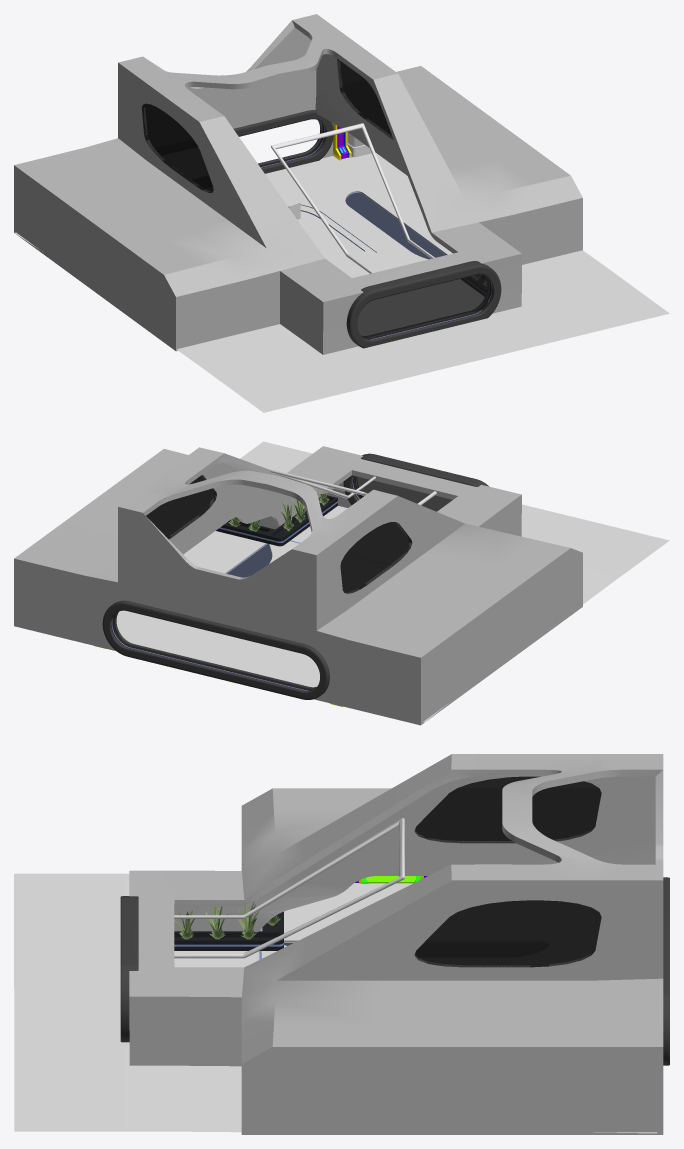
3 renders of one model, top to bottom at view 1: azimuth 30°, elevation 25°; view 2: azimuth 150°, elevation 25°; view 3: azimuth 270°, elevation 25°, orthographic. The views are drawn at different scales.
Parts seen in each view (by area): view 1: Room_baking, Floor, SideGlass, BackGlass, BackRoundedFrame_baked, FrontRoundedFrame_baked, TopFrame; view 2: Room_baking, Floor, FrontRoundedFrame_baked, SideGlass, Side_Gamla, BackRoundedFrame_baked, BackGlass, TopFrame, Side_Plants; view 3: Room_baking, Floor, SideGlass, TopFrame, BackRoundedFrame_baked, Side_Gamla, FrontRoundedFrame_baked, Side_Plants.001.
Part boxes in pixels (box(x1,y1,x2,y2)): Room_baking: box(14, 14, 582, 354); Floor: box(14, 152, 669, 412); SideGlass: box(141, 59, 393, 192); BackGlass: box(357, 274, 490, 338); BackRoundedFrame_baked: box(346, 261, 501, 348); FrontRoundedFrame_baked: box(233, 110, 333, 173); TopFrame: box(271, 123, 434, 273); Room_baking: box(14, 446, 582, 725); Floor: box(116, 441, 669, 722); FrontRoundedFrame_baked: box(102, 600, 329, 699); SideGlass: box(146, 475, 412, 593); Side_Gamla: box(216, 495, 337, 546); BackRoundedFrame_baked: box(343, 453, 488, 504); BackGlass: box(356, 476, 452, 511); TopFrame: box(270, 469, 436, 505); Side_Plants: box(228, 493, 329, 531); Room_baking: box(129, 754, 663, 1134); Floor: box(14, 873, 657, 1133); SideGlass: box(414, 776, 601, 967); TopFrame: box(174, 818, 404, 958); BackRoundedFrame_baked: box(120, 896, 138, 1042); Side_Gamla: box(174, 911, 283, 950); FrontRoundedFrame_baked: box(663, 877, 669, 1065); Side_Plants.001: box(174, 901, 280, 939).
Size of the model in its own units: 9184 by 3351 by 9766.
Materials: 20 (2 with a texture image).
